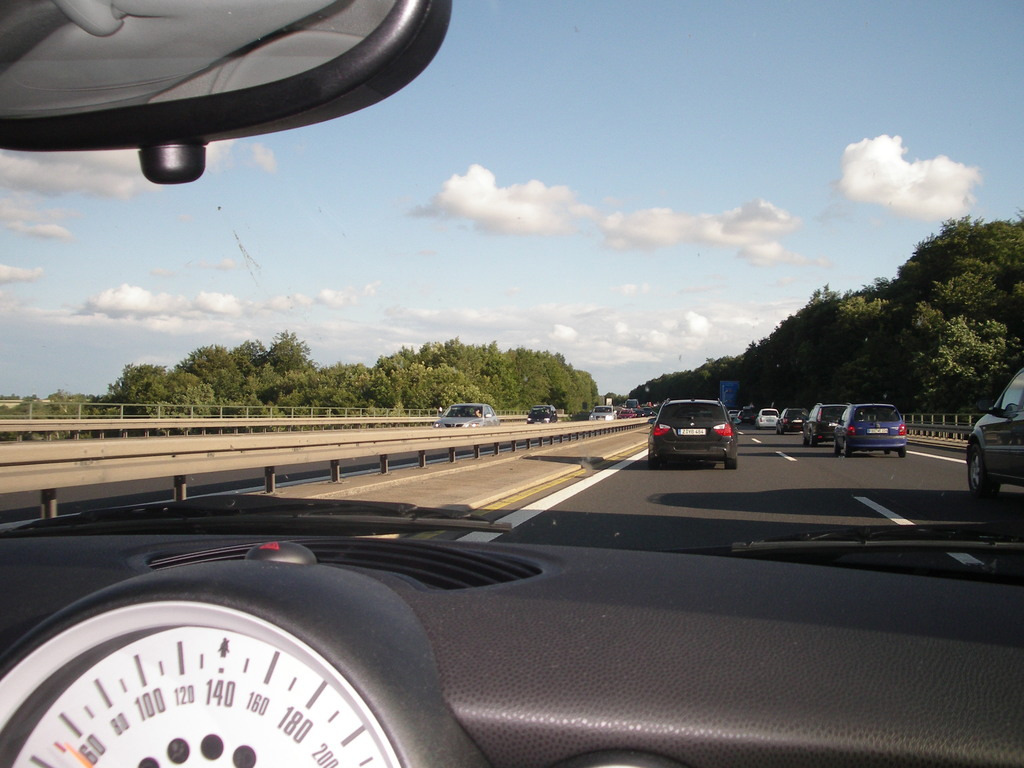Car: (0, 0, 1023, 767), (728, 405, 906, 459), (958, 364, 1023, 490), (648, 398, 736, 471), (835, 398, 904, 458), (801, 402, 848, 451), (430, 401, 497, 431), (590, 399, 653, 422), (620, 394, 656, 422), (748, 405, 779, 437), (774, 407, 807, 435), (583, 403, 622, 422), (521, 403, 557, 422), (727, 411, 742, 427)
